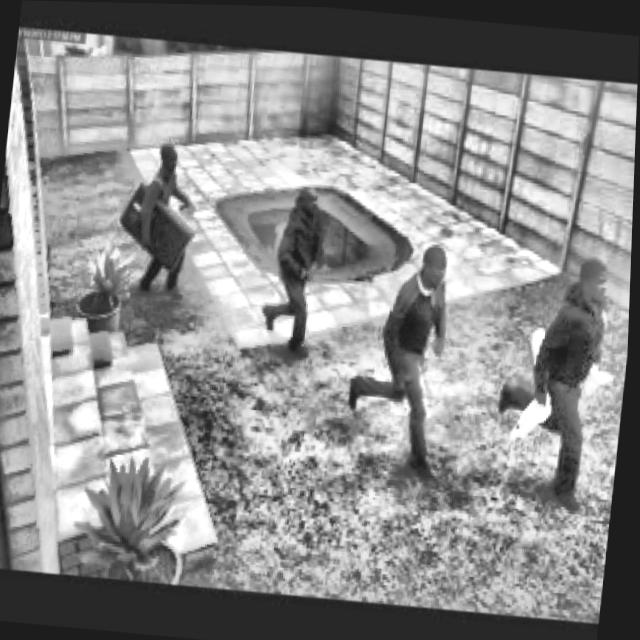burglary: (485, 245, 633, 516), (338, 232, 463, 483), (106, 134, 207, 309), (255, 177, 334, 363)
